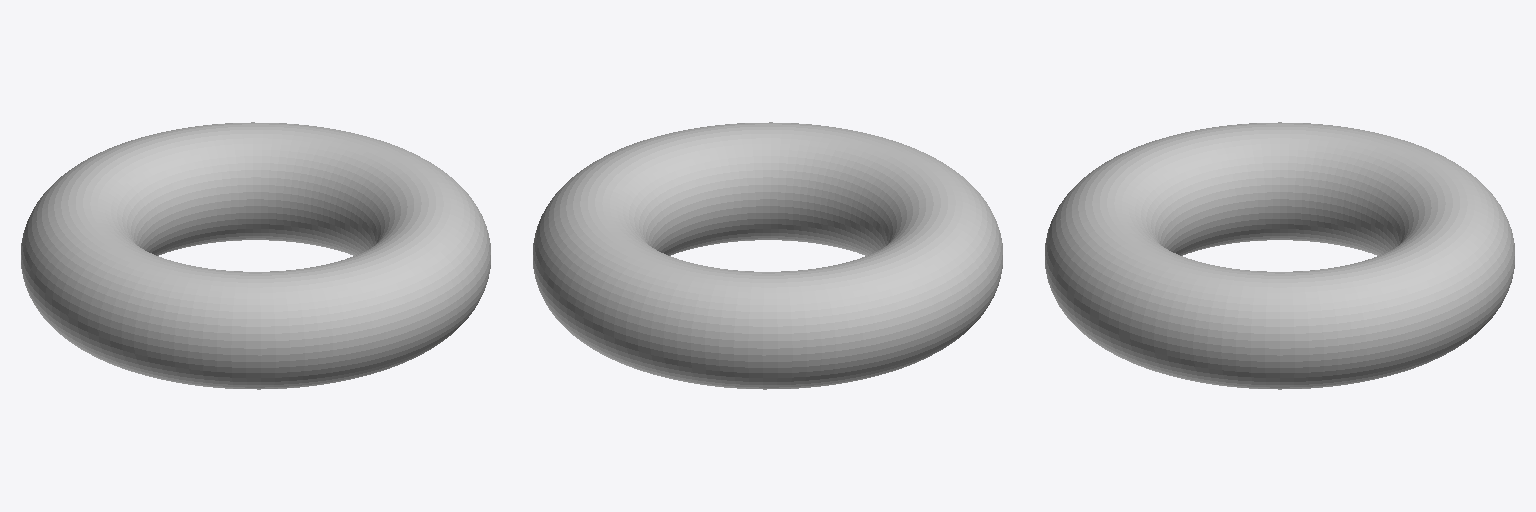
File: test_gate2.obj
The picture shows the model from 3 angles: view 1: azimuth 30°, elevation 25°; view 2: azimuth 150°, elevation 25°; view 3: azimuth 270°, elevation 25°; orthographic projection.
Parts seen in each view (by area): view 1: Torus; view 2: Torus; view 3: Torus.
Part boxes in pixels (bbox=[...]): Torus: bbox=[21, 122, 490, 389]; Torus: bbox=[533, 122, 1002, 389]; Torus: bbox=[1045, 122, 1514, 389].
Bounding box in the file's own units: 4 × 0.998 × 4.